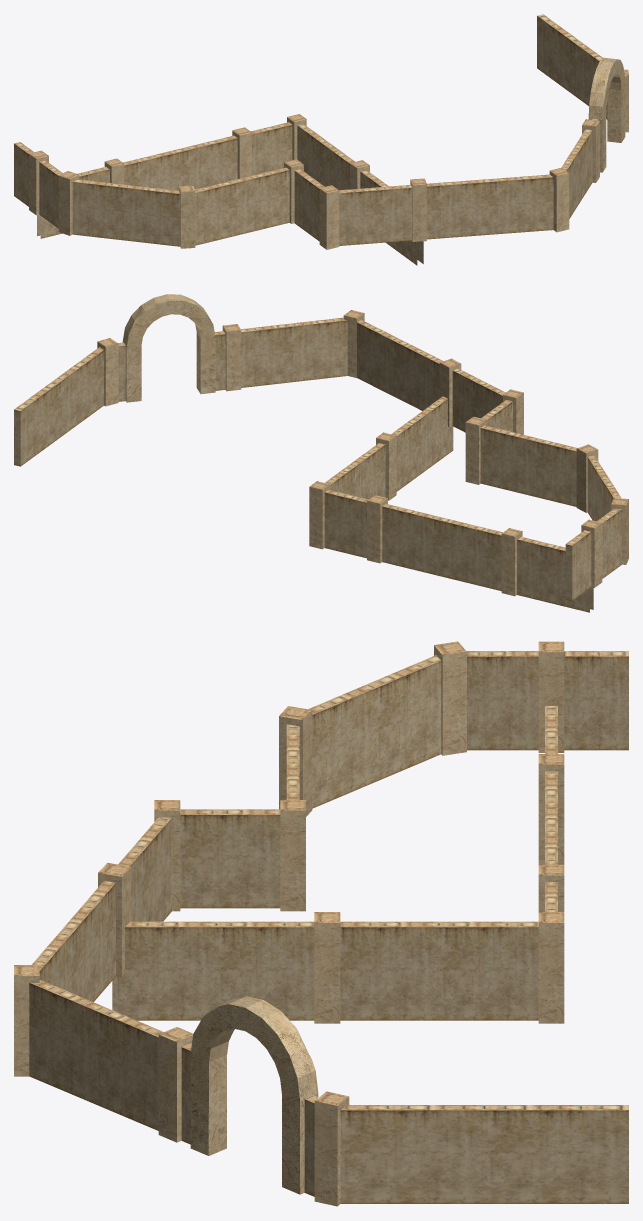
The model's file is poi_tato_corral_half_64x64_s01_l0.fbx.
3 renders of one model, top to bottom at view 1: azimuth 30°, elevation 25°; view 2: azimuth 150°, elevation 25°; view 3: azimuth 270°, elevation 25°, orthographic. The views are drawn at different scales.
Visible parts, largest first — view 1: mesh_node; view 2: mesh_node; view 3: mesh_node.
Boxes of the visible parts, x1,y1,x2,y2 form: mesh_node: (14, 14, 628, 265); mesh_node: (14, 294, 628, 612); mesh_node: (14, 641, 628, 1206).
Bounding box in the file's own units: 42.57 × 9 × 23.81.
